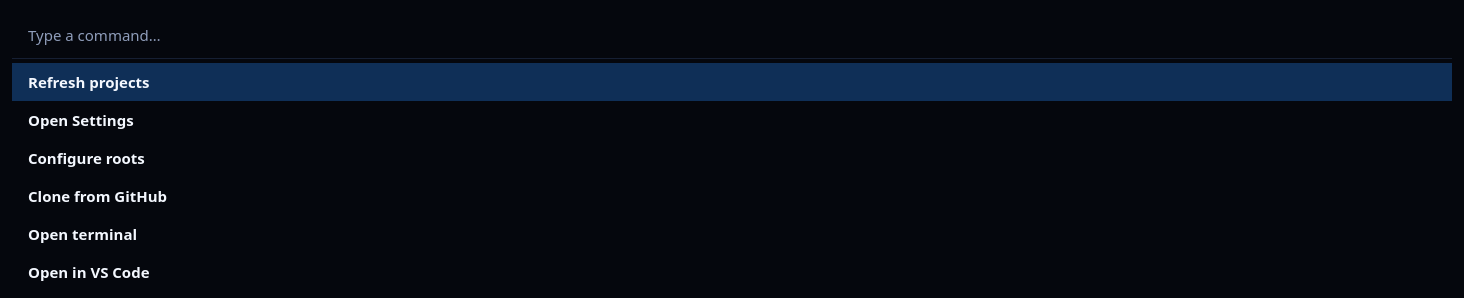
CommandPalette — what typing does to the list › says so when nothing matches, and Enter then does nothing
In the field with placeholder "Type a command…": [732, 36] box [12,12,1452,59], type "zzzz"
Then press Enter
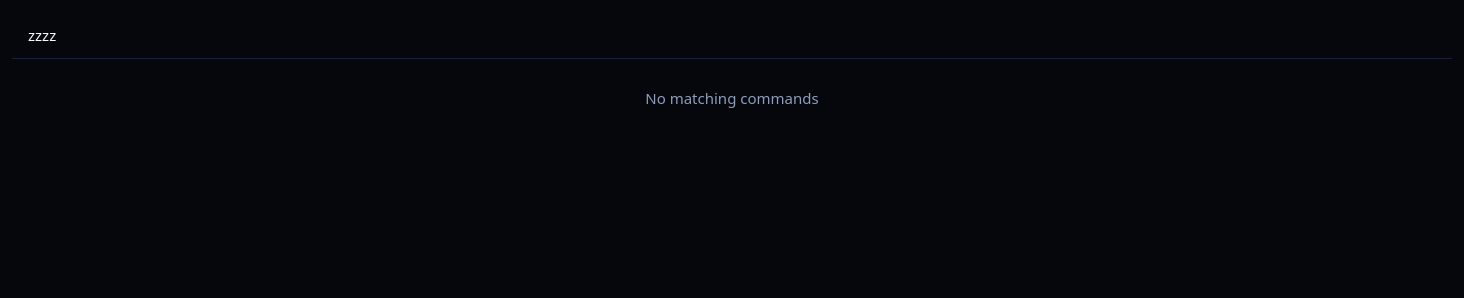
Expected: the text "No matching commands" is shown, [645,88,819,108]
Expected: no buttons are shown
